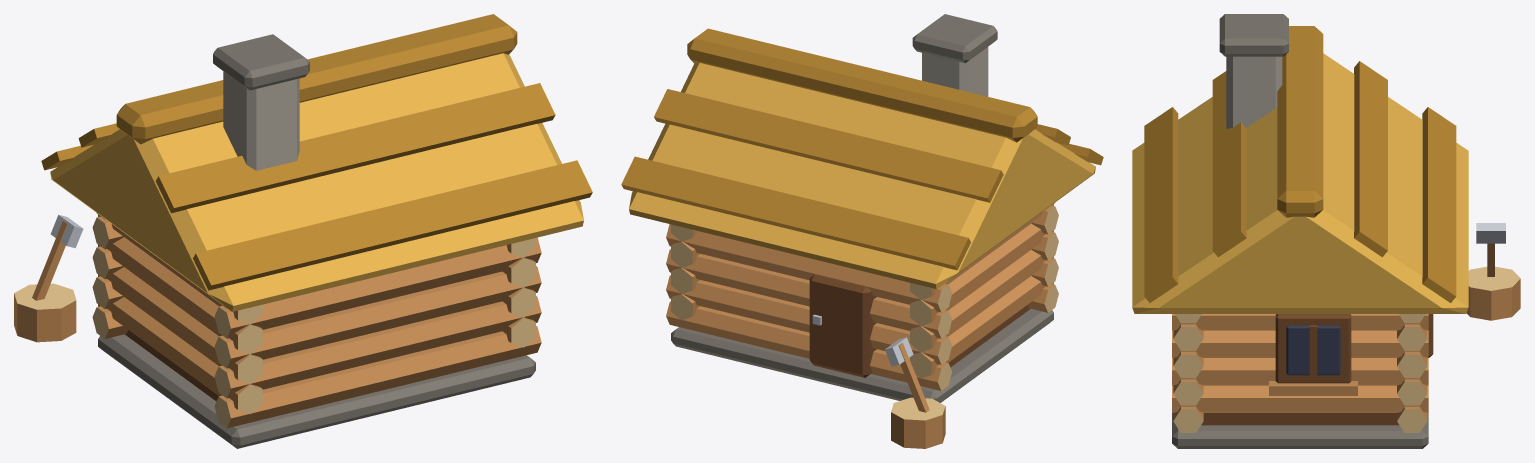
The model's file is woodcutter_l1.fbx.
3 views of the same model, side by side, from view 1: azimuth 30°, elevation 25°; view 2: azimuth 150°, elevation 25°; view 3: azimuth 270°, elevation 25° (orthographic). The views are drawn at different scales.
Visible parts, largest first — view 1: woodcutter_l1; view 2: woodcutter_l1; view 3: woodcutter_l1.
Part boxes in pixels (bbox=[...]): woodcutter_l1: bbox=[14, 14, 592, 448]; woodcutter_l1: bbox=[621, 14, 1103, 448]; woodcutter_l1: bbox=[1132, 14, 1520, 448].
Bounding box in the file's own units: 0.75 × 0.6456 × 0.7086.
